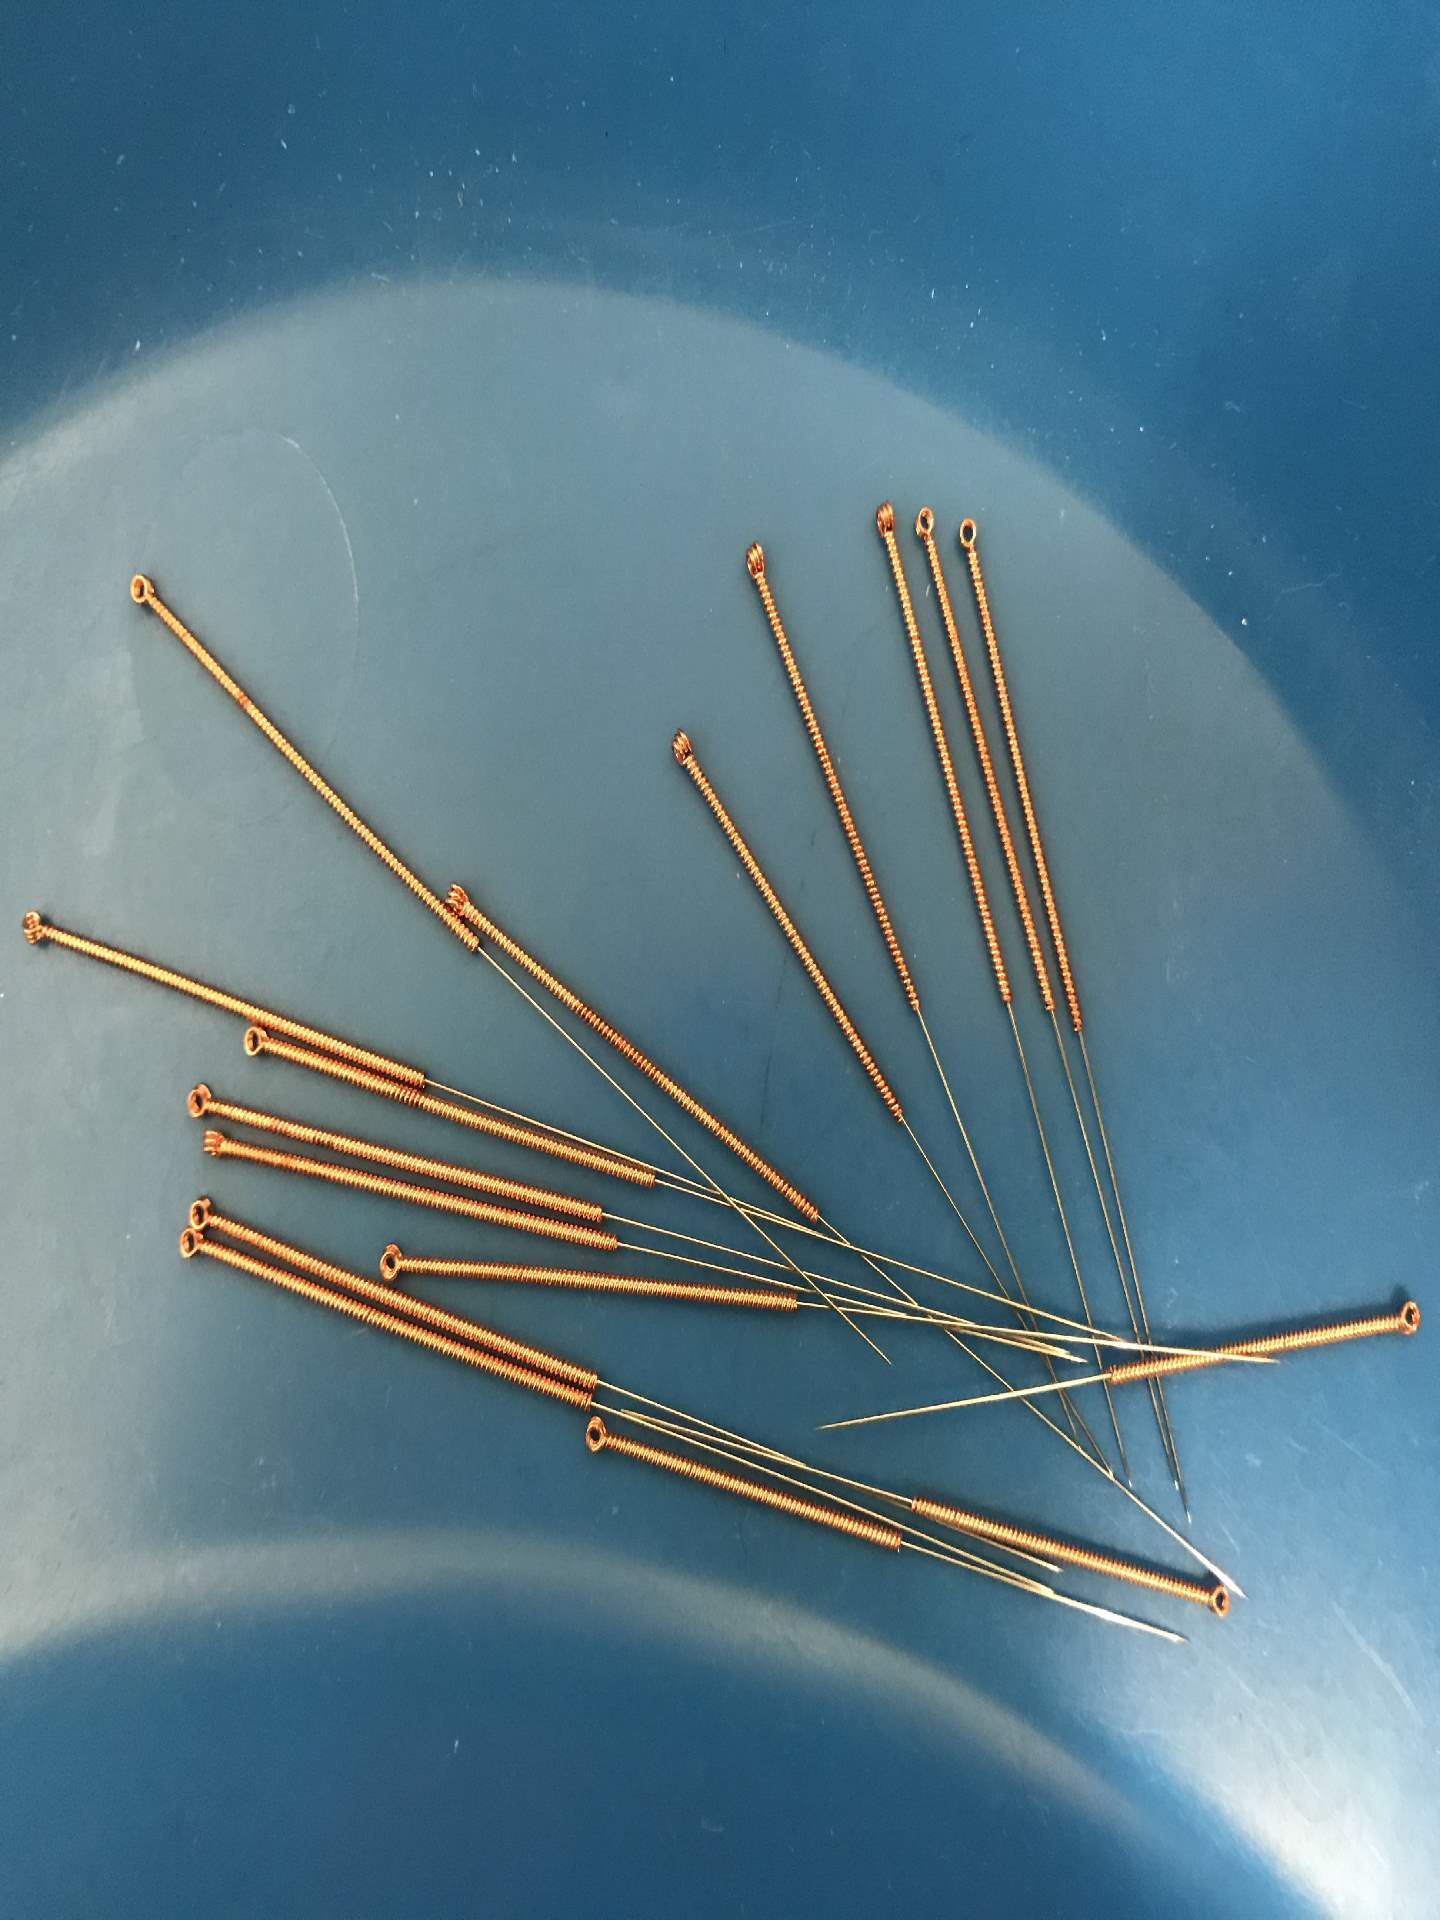needle: (731, 531, 781, 597), (113, 562, 163, 623), (185, 1120, 241, 1172), (575, 1411, 626, 1466), (1379, 1293, 1429, 1350), (1186, 1571, 1237, 1625), (12, 900, 61, 955), (174, 1073, 225, 1125), (945, 509, 989, 568), (659, 720, 702, 777), (371, 1234, 416, 1287), (166, 1225, 216, 1270), (865, 491, 905, 547), (231, 1017, 278, 1064), (180, 1188, 225, 1234), (440, 875, 476, 921), (909, 500, 941, 546)
